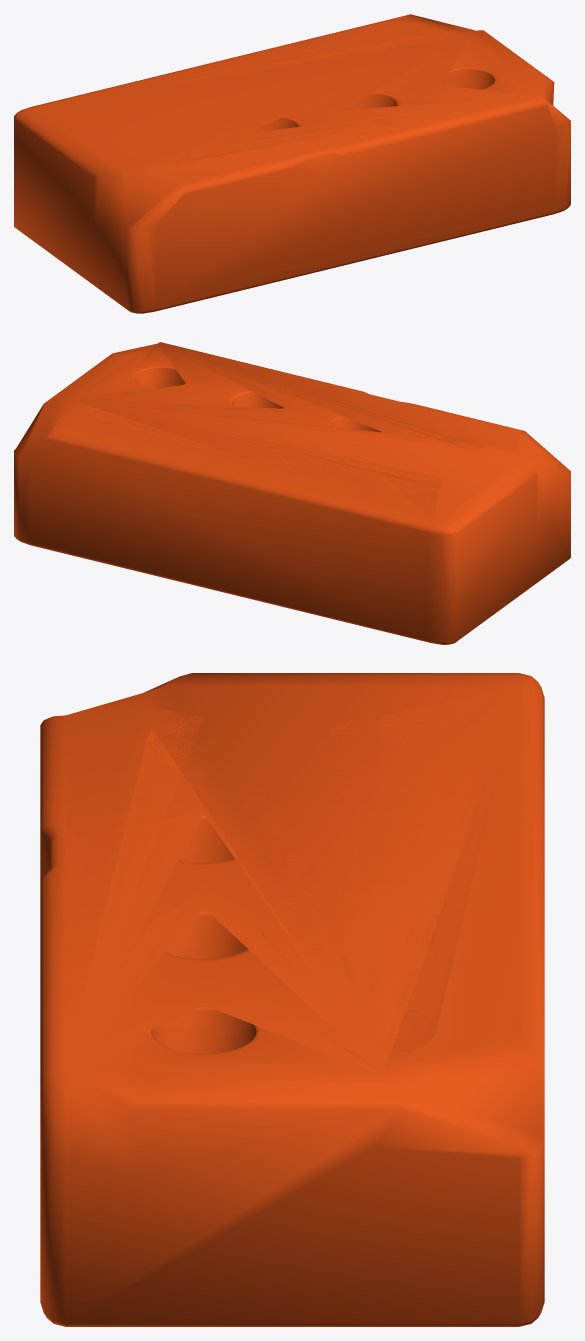
The model's file is Brick.fbx.
The picture shows the model from 3 angles, top to bottom: view 1: azimuth 30°, elevation 25°; view 2: azimuth 150°, elevation 25°; view 3: azimuth 270°, elevation 25°; orthographic projection. The views are drawn at different scales.
Parts seen in each view (by area): view 1: Cube; view 2: Cube; view 3: Cube.
Part boxes in pixels (box(x1,y1,x2,y2)): Cube: box(14, 14, 570, 313); Cube: box(14, 342, 570, 644); Cube: box(40, 673, 544, 1326).
Bounding box in the file's own units: 406 × 105 × 200.
